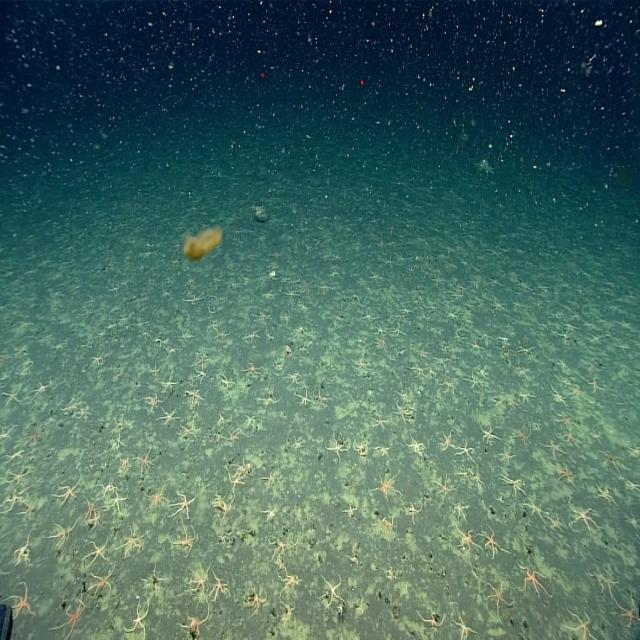brittle-stars: (607, 590, 640, 632), (7, 582, 38, 625), (520, 561, 551, 600), (60, 594, 86, 637), (564, 606, 595, 640), (568, 500, 596, 536), (486, 582, 511, 616), (321, 577, 346, 608), (129, 602, 151, 637), (120, 524, 144, 556), (592, 566, 619, 594), (87, 569, 113, 598), (180, 614, 209, 640), (173, 524, 196, 556), (482, 526, 505, 558), (172, 489, 194, 521), (190, 567, 211, 600), (453, 613, 478, 640), (499, 471, 524, 498), (52, 521, 76, 549), (375, 474, 399, 501), (211, 572, 232, 602), (56, 480, 80, 506), (86, 540, 110, 566), (246, 585, 267, 614), (14, 537, 33, 569), (419, 609, 444, 633), (456, 525, 478, 552), (146, 483, 168, 510), (512, 422, 533, 450), (526, 496, 547, 524), (0, 384, 24, 408), (270, 534, 293, 559), (556, 462, 578, 488), (139, 566, 161, 592), (277, 571, 302, 593), (4, 465, 29, 487), (327, 435, 348, 461), (3, 490, 24, 516), (136, 448, 155, 476), (585, 374, 607, 398), (228, 472, 246, 501), (542, 438, 564, 461), (598, 451, 620, 474), (593, 483, 614, 507), (380, 516, 398, 543), (436, 475, 454, 502), (213, 497, 234, 520), (279, 600, 296, 628), (456, 440, 476, 463), (479, 421, 498, 445), (261, 386, 280, 410), (217, 373, 235, 398), (184, 387, 205, 408), (554, 411, 576, 431), (95, 480, 117, 500), (108, 491, 127, 514), (514, 358, 533, 381), (24, 425, 42, 449), (83, 497, 99, 524), (21, 500, 42, 520), (562, 428, 582, 448), (179, 422, 197, 444), (465, 372, 483, 394), (394, 403, 411, 426), (242, 328, 262, 347), (32, 379, 52, 398), (407, 436, 425, 457), (439, 432, 456, 454), (6, 448, 28, 465), (160, 408, 179, 427), (243, 360, 261, 380), (352, 437, 368, 459), (550, 511, 566, 533), (408, 501, 423, 524), (176, 328, 194, 347), (112, 433, 129, 453), (372, 412, 388, 433), (162, 373, 178, 394), (144, 391, 160, 412), (297, 386, 312, 408), (314, 388, 329, 410), (344, 502, 359, 524), (454, 502, 469, 524), (353, 354, 371, 372), (490, 296, 508, 314), (260, 506, 278, 524), (411, 360, 428, 379), (498, 447, 515, 466), (354, 594, 368, 616), (519, 388, 536, 406), (292, 324, 309, 342), (264, 468, 280, 487), (389, 321, 405, 340), (442, 376, 458, 395), (548, 388, 564, 407), (53, 339, 70, 356), (214, 328, 231, 345), (376, 444, 392, 462), (256, 308, 274, 324), (195, 352, 213, 368), (470, 470, 486, 488), (273, 352, 286, 374), (91, 351, 106, 370), (232, 462, 252, 476), (443, 306, 459, 323), (471, 338, 485, 357), (117, 455, 130, 475), (396, 387, 411, 404), (195, 366, 210, 382), (272, 557, 288, 572), (165, 344, 179, 361), (228, 428, 241, 446), (508, 393, 520, 412), (377, 337, 389, 354), (90, 511, 102, 528), (113, 417, 127, 431), (627, 514, 639, 530), (556, 356, 568, 372), (627, 444, 640, 458), (349, 548, 359, 566), (625, 481, 640, 493), (150, 362, 159, 380), (156, 334, 166, 350), (458, 468, 468, 484), (0, 429, 13, 441), (435, 357, 448, 369), (557, 378, 571, 389), (288, 372, 299, 386), (563, 321, 578, 331), (519, 346, 532, 357), (292, 437, 303, 450), (386, 568, 396, 582), (556, 332, 568, 342), (207, 321, 219, 331), (372, 328, 385, 337), (217, 536, 228, 546), (244, 416, 254, 427), (572, 385, 580, 398), (284, 343, 292, 356), (590, 432, 600, 442), (418, 311, 428, 321), (407, 416, 417, 426), (283, 311, 290, 325), (64, 404, 76, 412), (416, 349, 428, 357), (332, 314, 344, 322), (360, 314, 373, 321), (142, 330, 151, 339), (137, 320, 146, 329), (79, 409, 87, 419), (218, 412, 224, 424), (496, 398, 505, 406), (215, 432, 222, 442), (480, 369, 488, 377), (402, 308, 411, 314), (499, 337, 509, 342)
